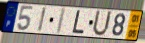5: (16, 6, 35, 32)
8: (112, 13, 127, 37)
I: (55, 6, 68, 35), (37, 6, 48, 34)
L: (71, 9, 86, 35)
U: (91, 9, 113, 38)
